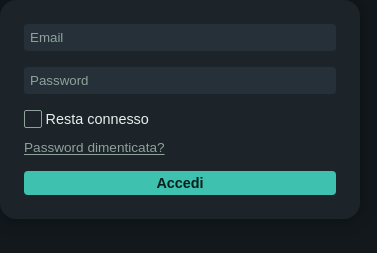
Test: AuthFormComponent › shows an email error when submitting with an empty email field
Click the button "Accedi" at (180, 183), box [24,171,336,195]
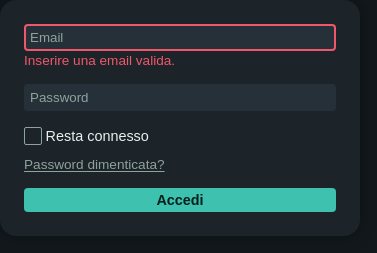
Result: the text "Inserire una email valida." is shown at [24,53,175,68]
